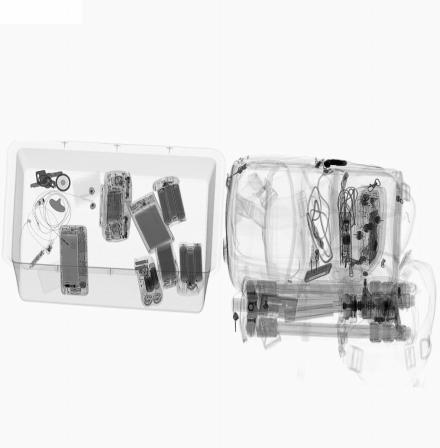Powerbank: (126, 191, 176, 256), (154, 240, 180, 288)
